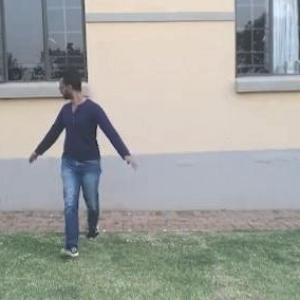land: (18, 64, 133, 251)
